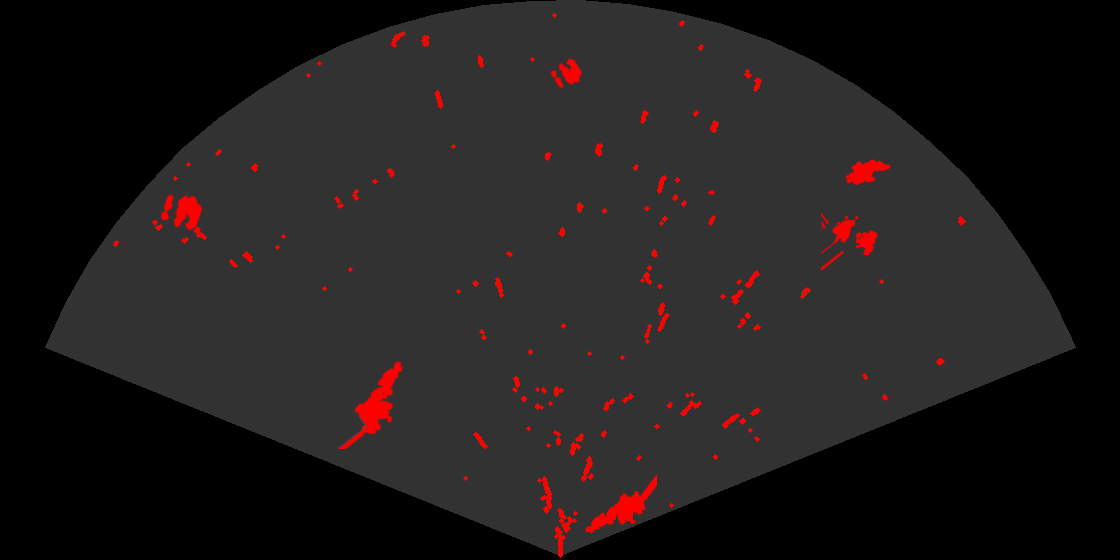AUV: (844, 158, 893, 187)
ball: (159, 192, 204, 233), (549, 57, 584, 90)
cage: (821, 211, 879, 271)
frogman: (337, 359, 405, 449), (584, 475, 657, 535)
